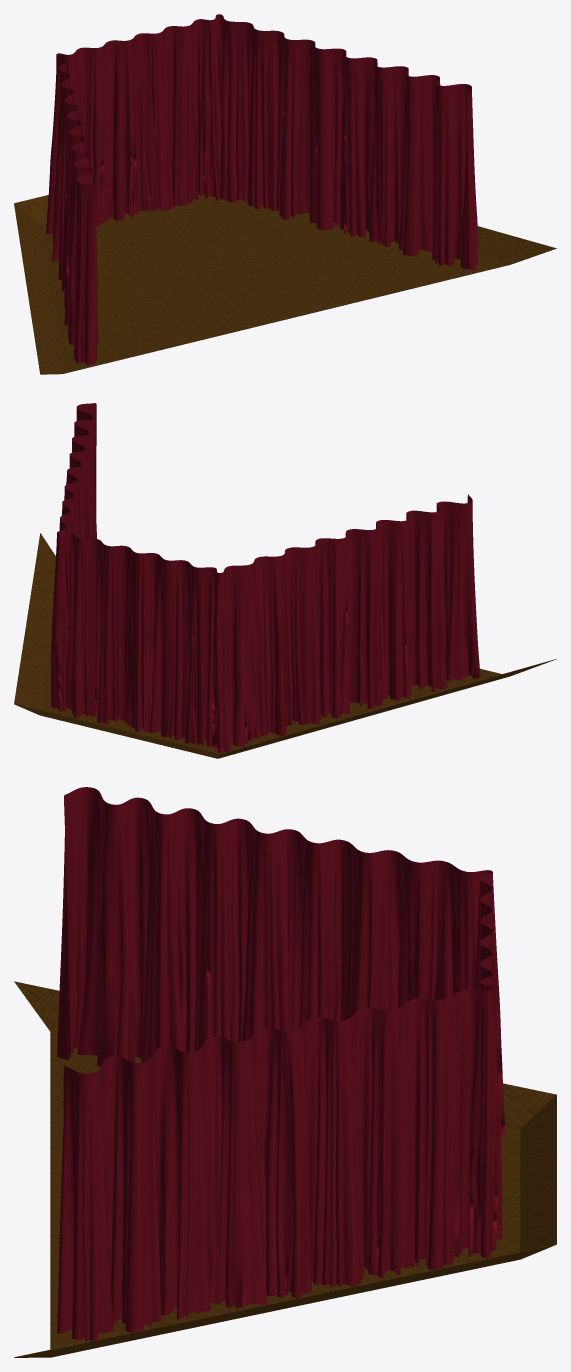
Rendered from buehne.glb.
The picture shows the model from 3 angles, top to bottom: view 1: azimuth 30°, elevation 25°; view 2: azimuth 150°, elevation 25°; view 3: azimuth 270°, elevation 25°; orthographic projection. The views are drawn at different scales.
Parts seen in each view (by area): view 1: Vorhang, Boden_Parkett; view 2: Vorhang, Boden_Parkett; view 3: Vorhang, Boden_Parkett.
Boxes of the visible parts, <box> form: Vorhang: <box>46,14,477,364</box>; Boden_Parkett: <box>14,194,556,374</box>; Vorhang: <box>51,403,480,752</box>; Boden_Parkett: <box>14,533,556,758</box>; Vorhang: <box>57,787,505,1340</box>; Boden_Parkett: <box>14,981,556,1357</box>.
Bounding box in the file's own units: 14.95 × 4.94 × 9.12.
2 materials, 2 textured.
